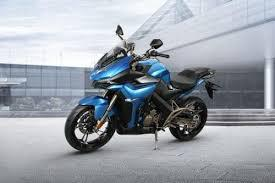Motorcycle: (60, 20, 220, 156)
